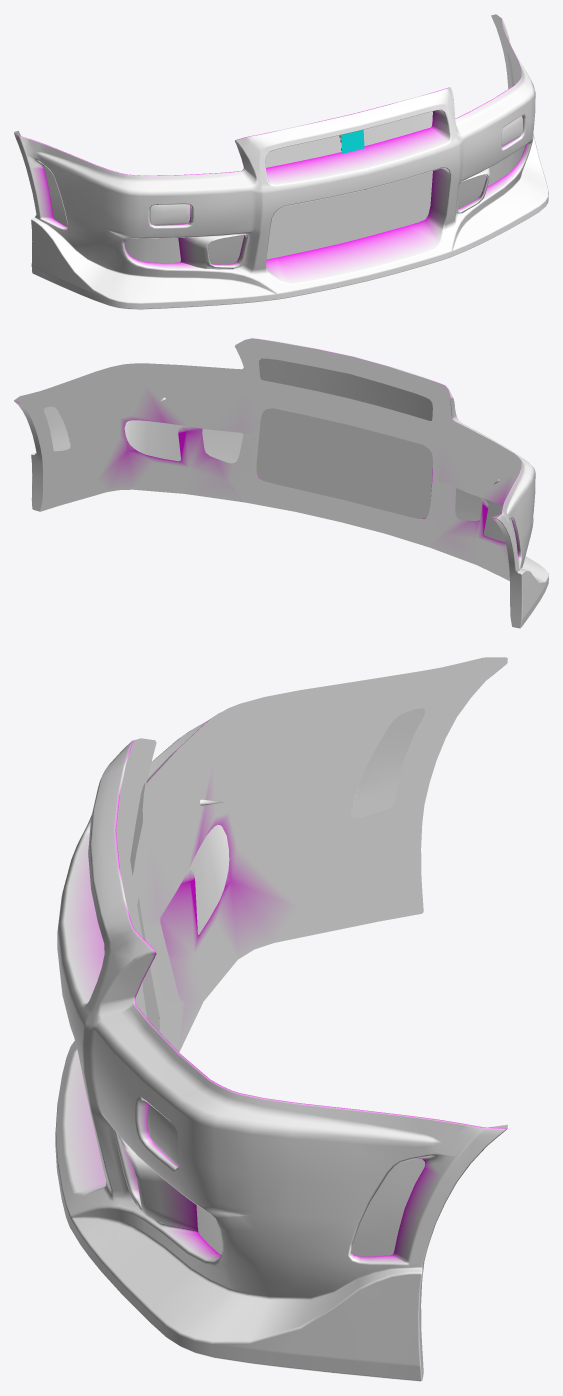
Rendered from Car_Nissan_SkylineGTRVspecR34_1999_BumperF_SetE.fbx.
3 renders of one model, top to bottom at view 1: azimuth 30°, elevation 25°; view 2: azimuth 150°, elevation 25°; view 3: azimuth 270°, elevation 25°, orthographic. The views are drawn at different scales.
Visible parts, largest first — view 1: BumperF 6; view 2: BumperF 6; view 3: BumperF 6.
Part boxes in pixels (x1,y1,x2,y2): BumperF 6: (14, 14, 548, 309); BumperF 6: (14, 338, 548, 628); BumperF 6: (55, 657, 507, 1381).
Size of the model in its own units: 1.8 by 0.5488 by 0.7181.
